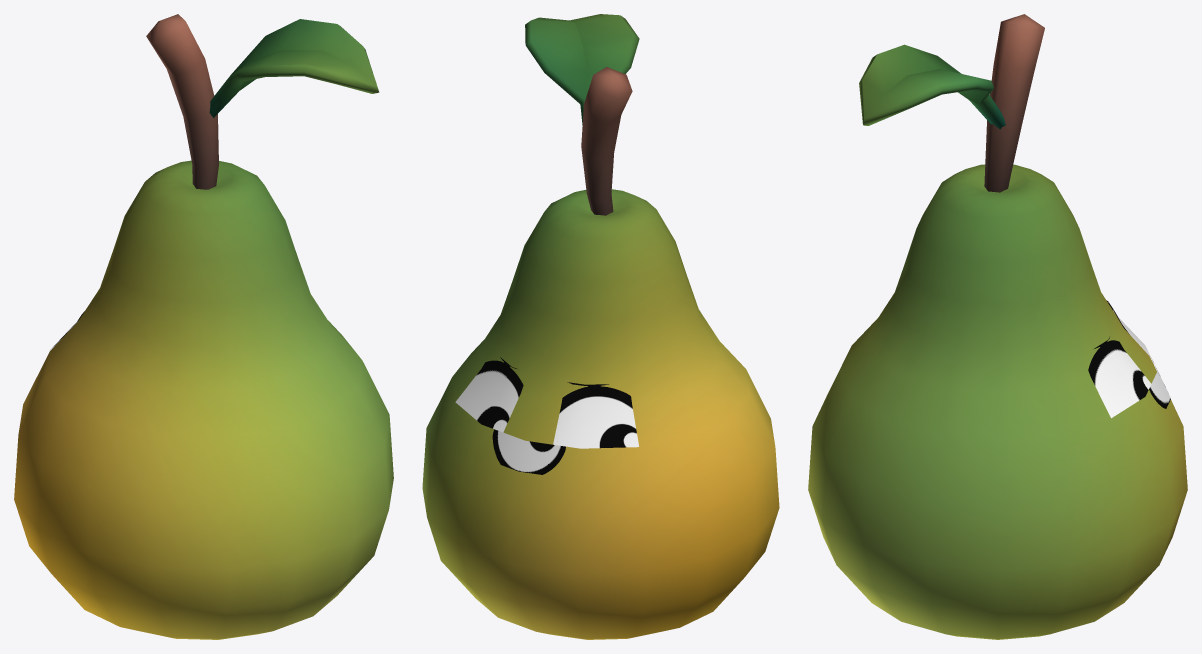
Rendered from pear_smile.fbx.
The picture shows the model from 3 angles, left to right: view 1: azimuth 30°, elevation 25°; view 2: azimuth 150°, elevation 25°; view 3: azimuth 270°, elevation 25°; orthographic projection. The views are drawn at different scales.
Visible parts, largest first — view 1: pear; view 2: pear; view 3: pear.
Part boxes in pixels (<box>): pear: <box>14,14,393,639</box>; pear: <box>422,14,779,639</box>; pear: <box>808,14,1187,639</box>.
Size of the model in its own units: 49.49 by 82.79 by 49.49.
